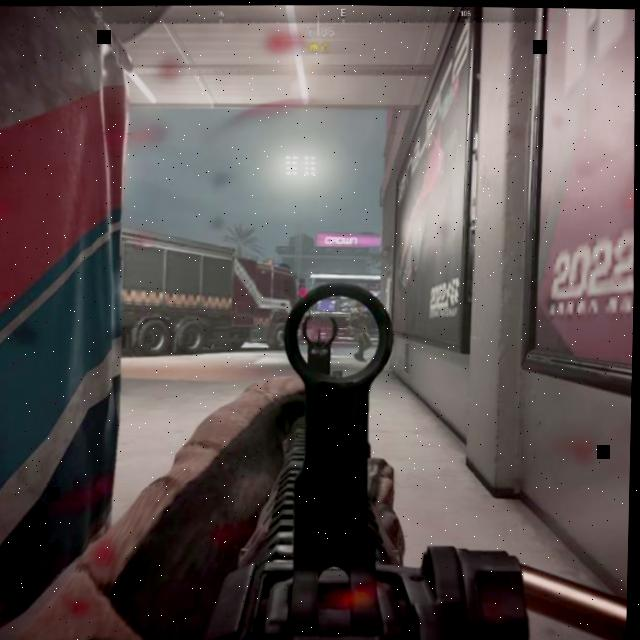MW2_body: (348, 302, 375, 361), (297, 286, 316, 340)
